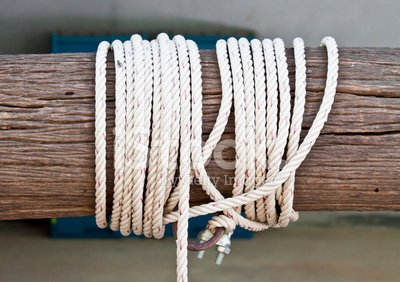9/可回收垃圾/绳子: (93, 31, 340, 282)
